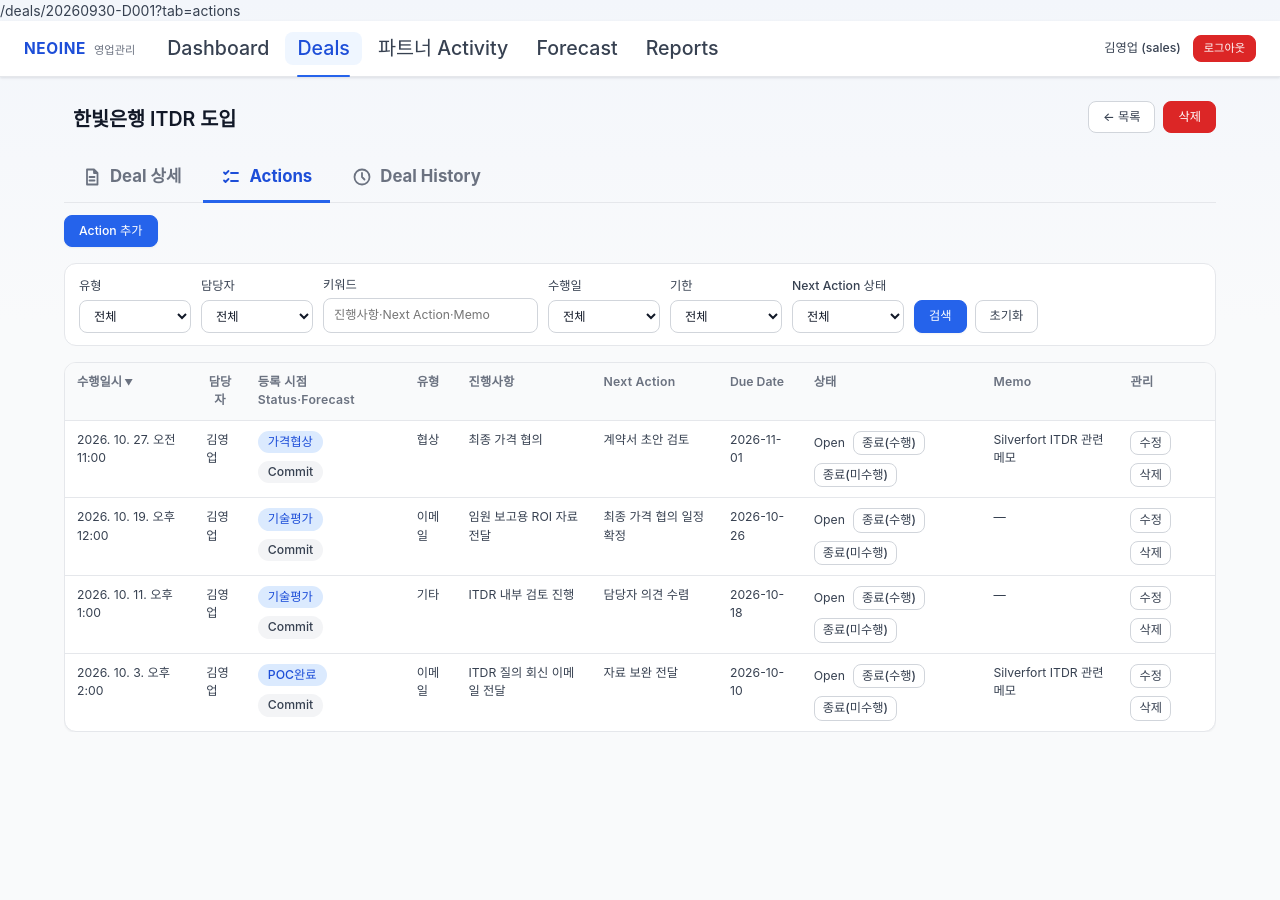
Action 폼: 진행사항·Next Action 분리 입력 (AC-20) › asks for progress or Next Action when both are empty and saves nothing
The width and height of the screenshot is (1280, 900).
Expected: the heading "한빛은행 ITDR 도입" is shown, [64,101,245,138]
Step 1. Click the button "Action 추가" → (111,231), box [64,215,158,247]
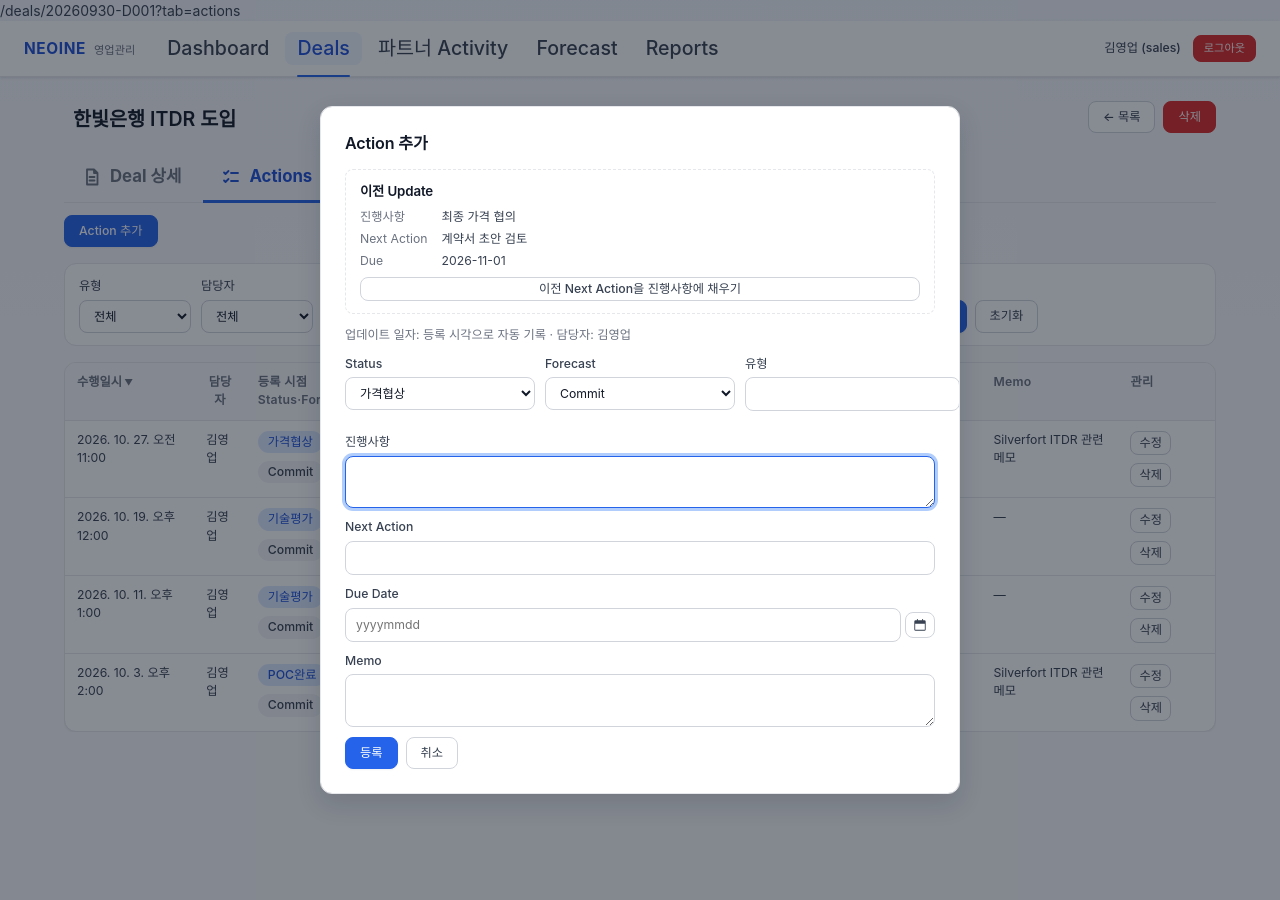
Step 2. Type "미팅" into the dropdown labelled "유형" → (852,394), box [745,377,960,411]
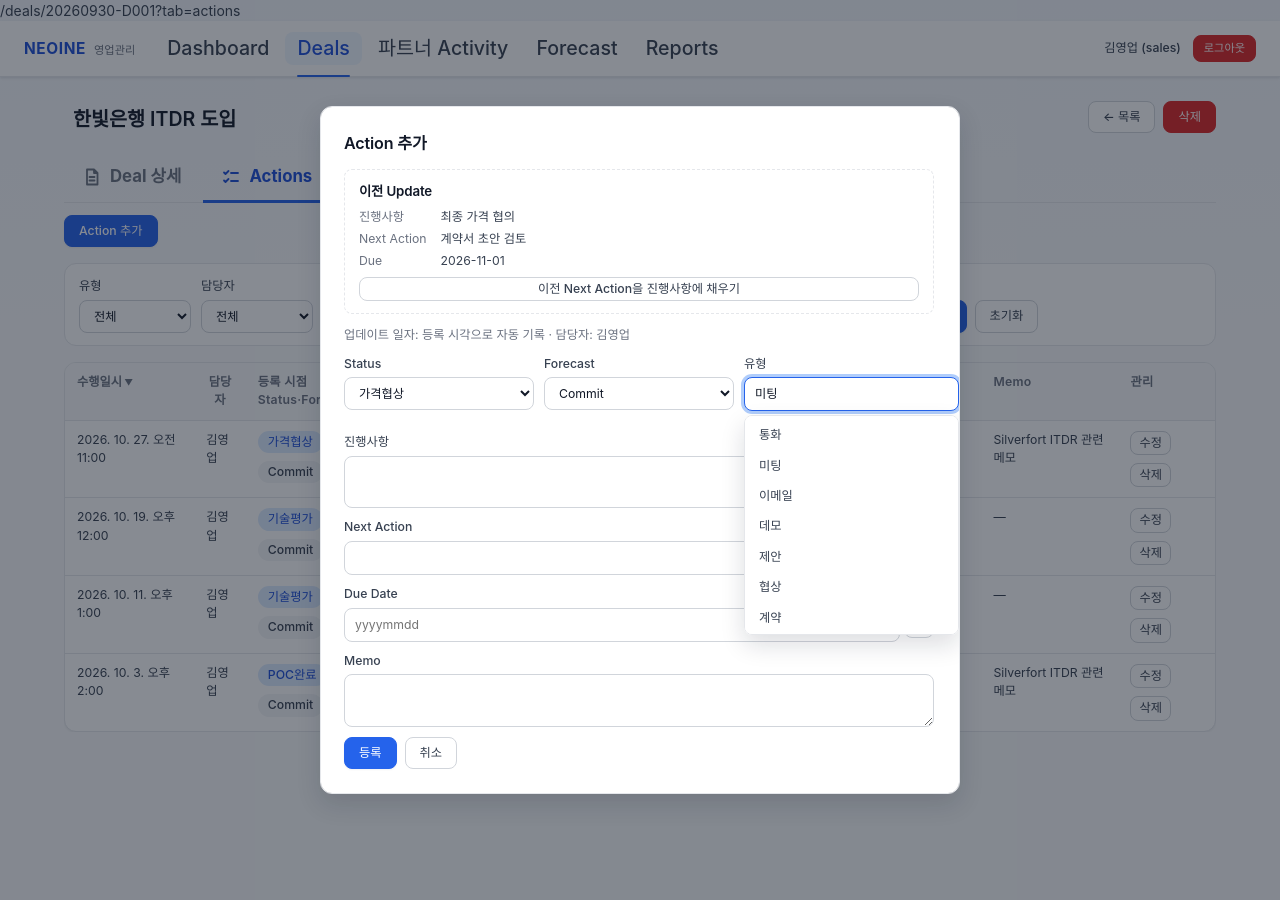
Step 3. Click the button "등록" → (370,753), box [344,737,396,769]
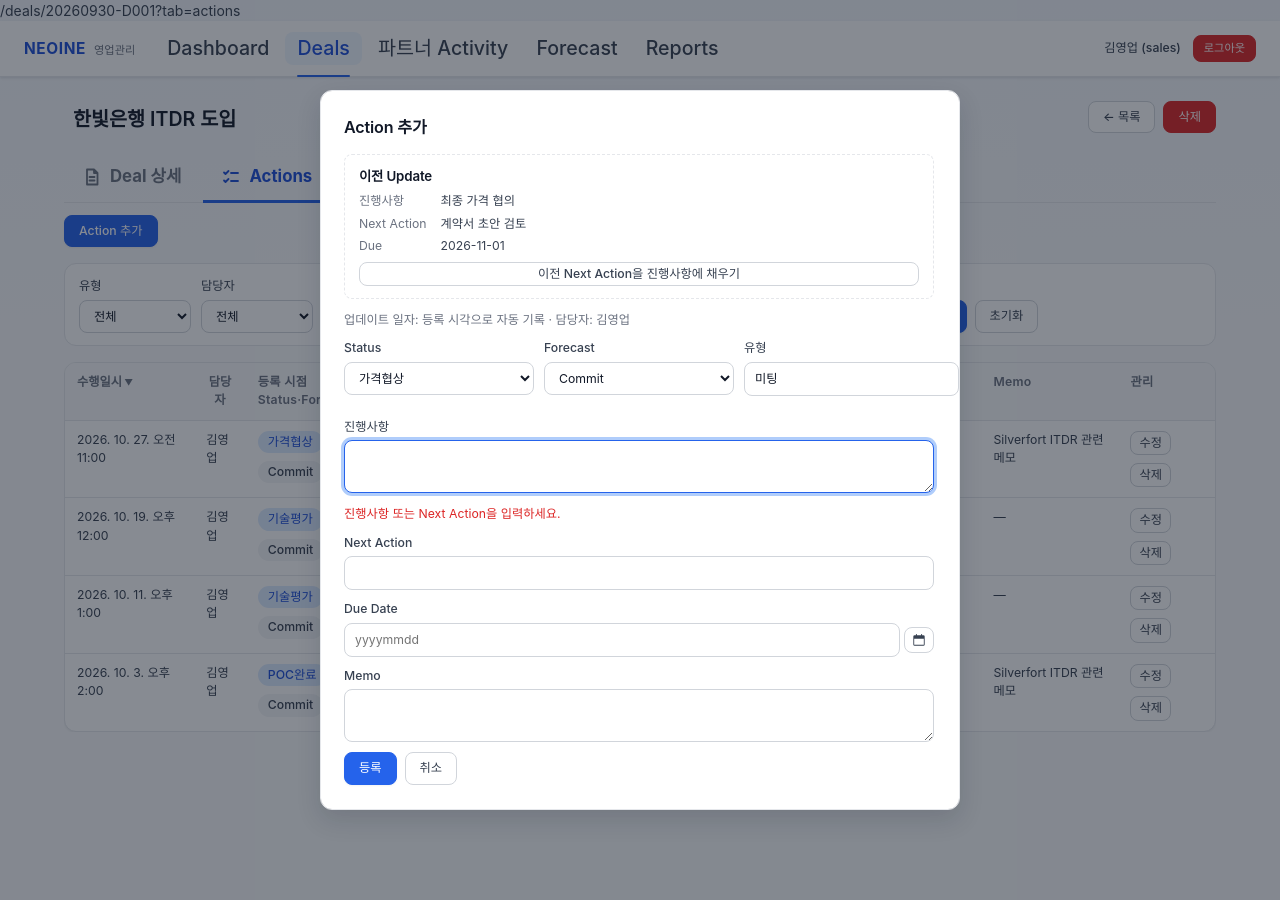
Now the text "진행사항 또는 Next Action을 입력하세요." is shown, box [344,506,561,521]
